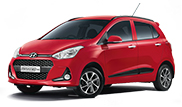car: (6, 14, 174, 100)
